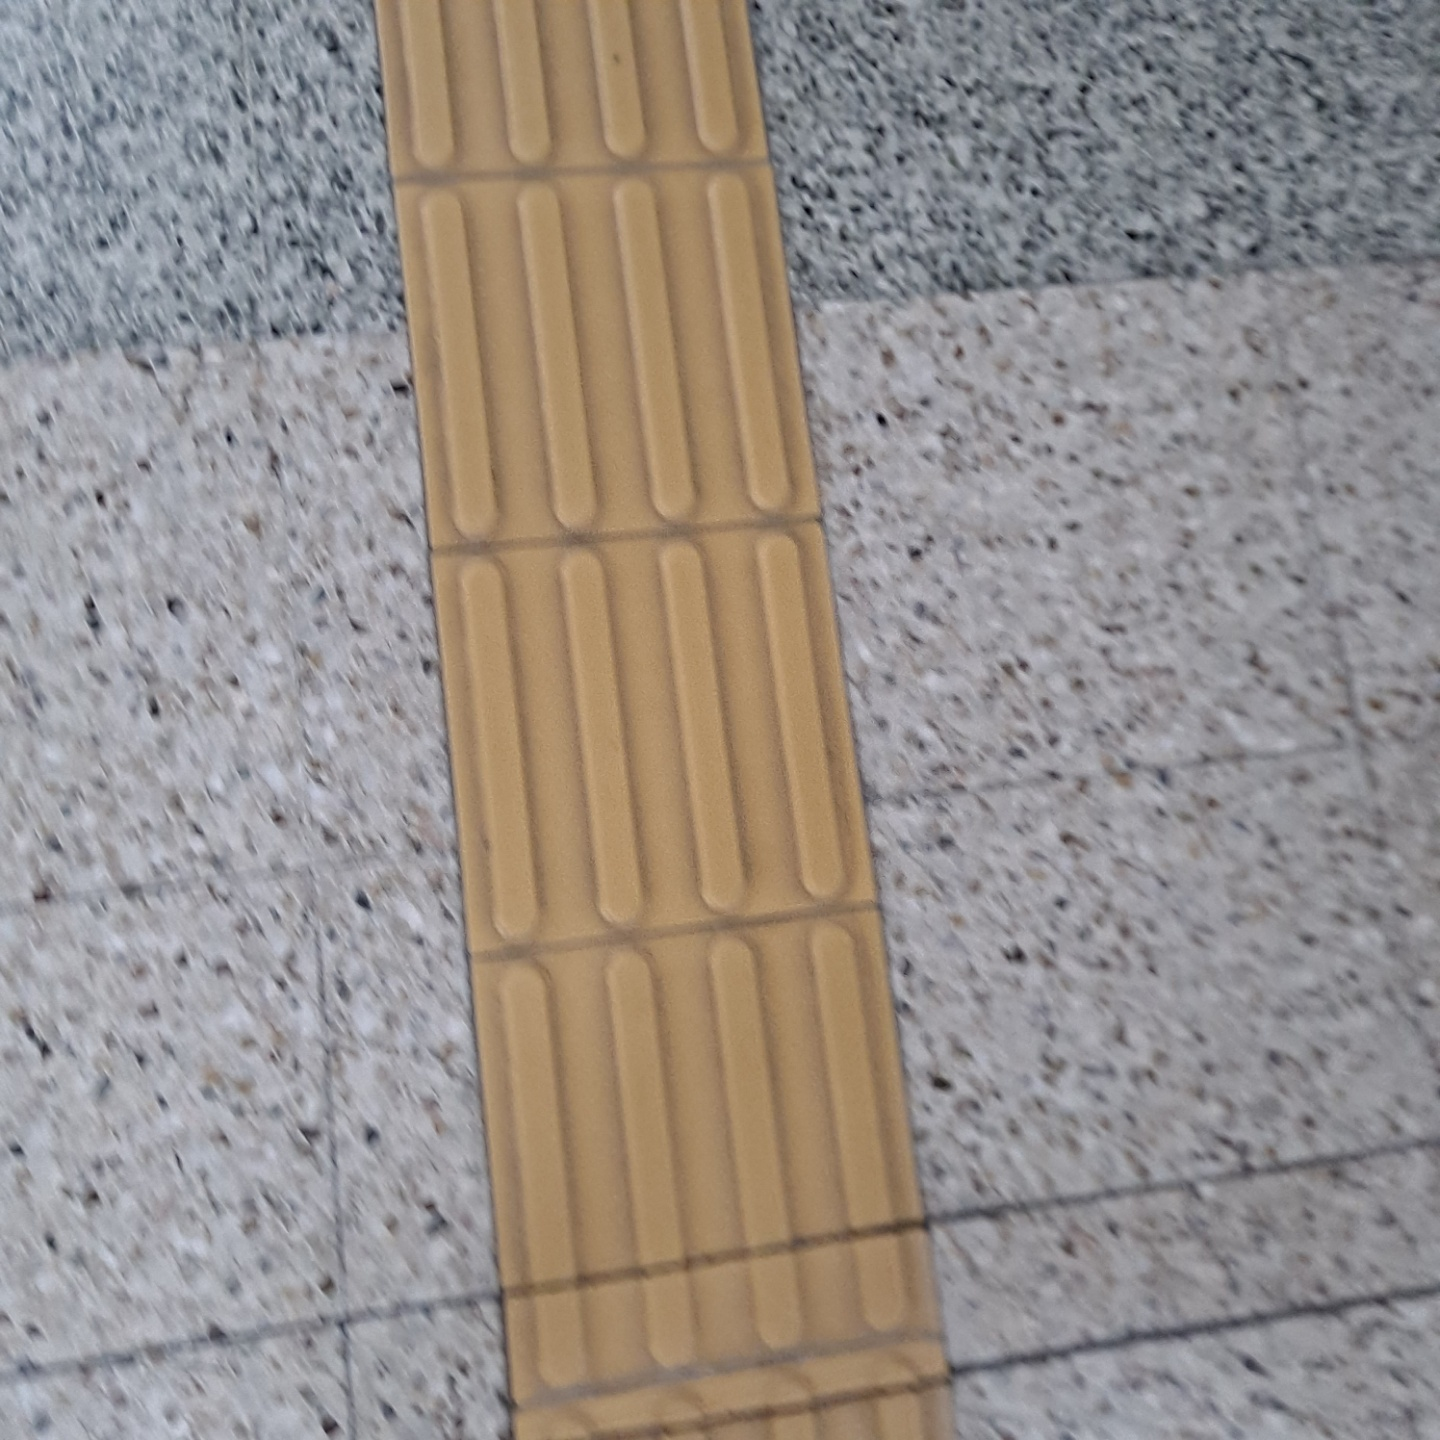guideBlock: (458, 949, 909, 1373), (364, 175, 849, 531), (477, 550, 866, 935), (371, 9, 749, 164)
